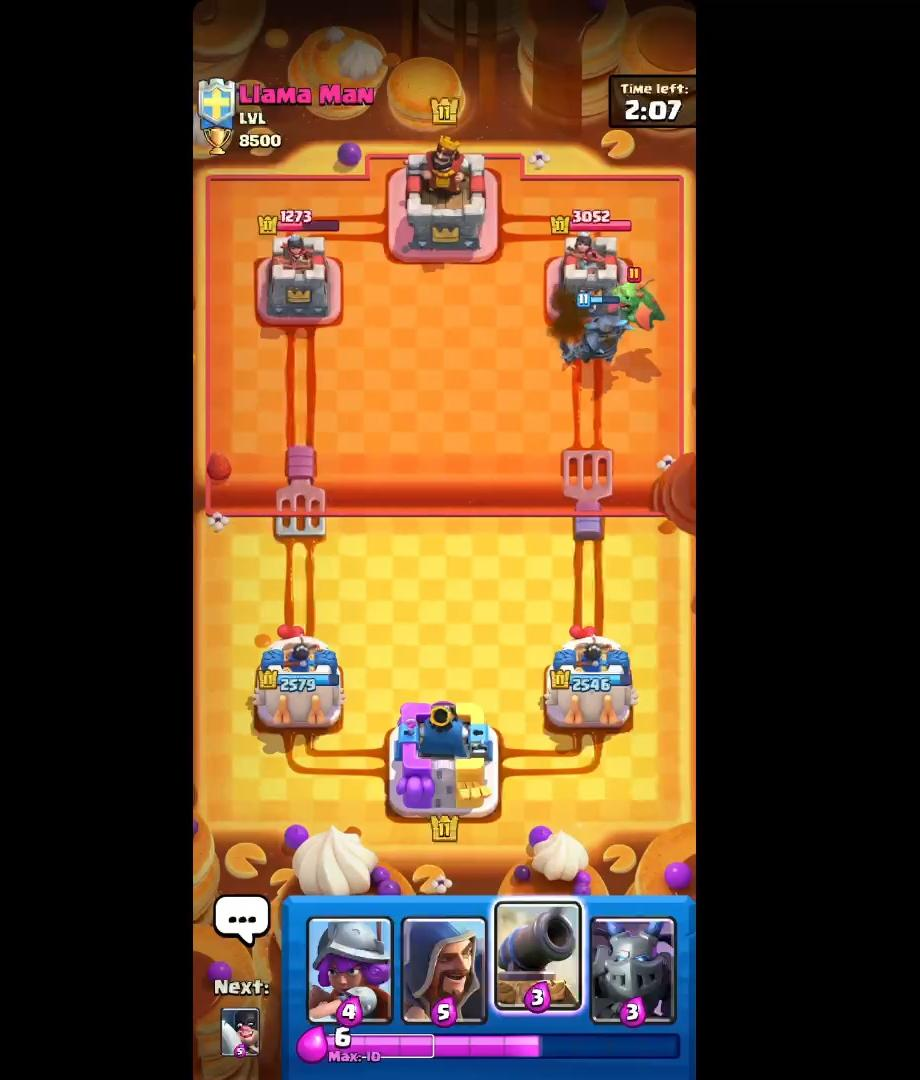Baby Dragon: (598, 266, 674, 339)
